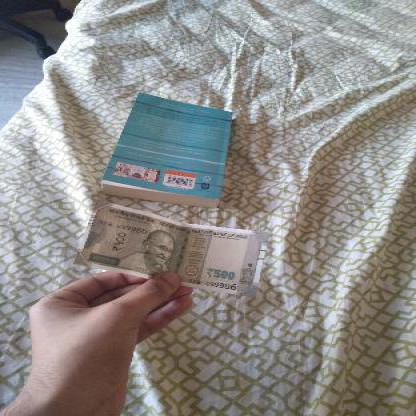New500Front: (87, 199, 261, 291)
